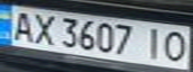0: (93, 20, 118, 54)
3: (54, 15, 81, 48)
6: (75, 18, 96, 52)
7: (112, 21, 139, 56)
A: (6, 8, 39, 43)
I: (139, 25, 169, 61)
O: (157, 28, 193, 63)
X: (27, 11, 60, 46)
